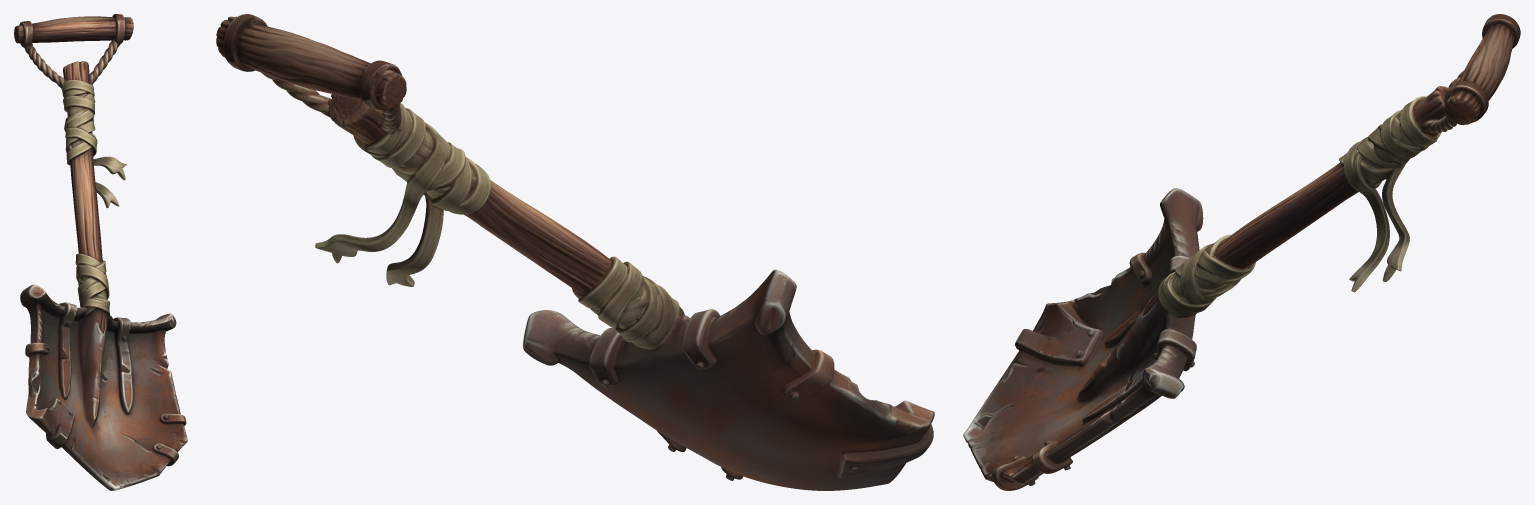
The model's file is Meshy_AI_Scrap_Shovel_Model_0217090910_texture.fbx.
3 views of the same model, side by side, from view 1: azimuth 30°, elevation 25°; view 2: azimuth 150°, elevation 25°; view 3: azimuth 270°, elevation 25° (orthographic). The views are drawn at different scales.
Visible parts, largest first — view 1: Mesh_0; view 2: Mesh_0; view 3: Mesh_0.
Part boxes in pixels (x1=…): Mesh_0: x1=14, y1=14, x2=187, y2=490; Mesh_0: x1=216, y1=14, x2=934, y2=490; Mesh_0: x1=963, y1=14, x2=1520, y2=490.
Bounding box in the file's own units: 140 × 186 × 190.
1 material, 1 textured.
